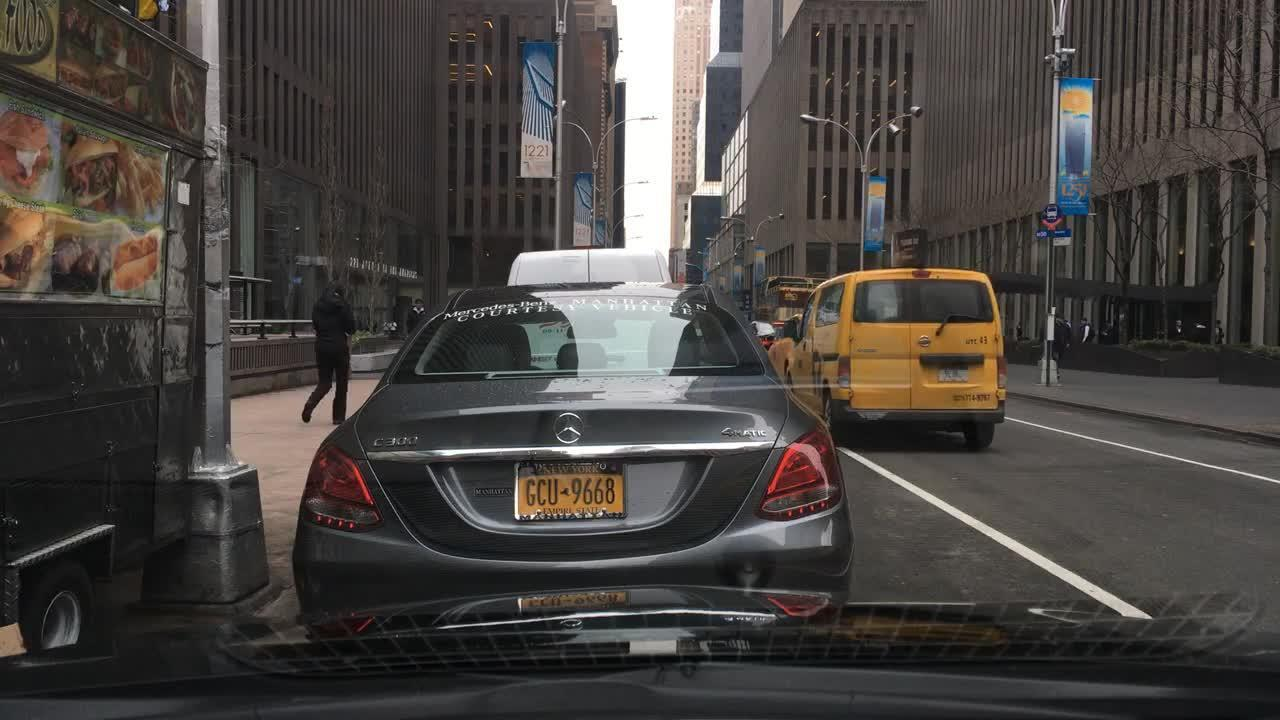Mercedes: (550, 407, 587, 449)
